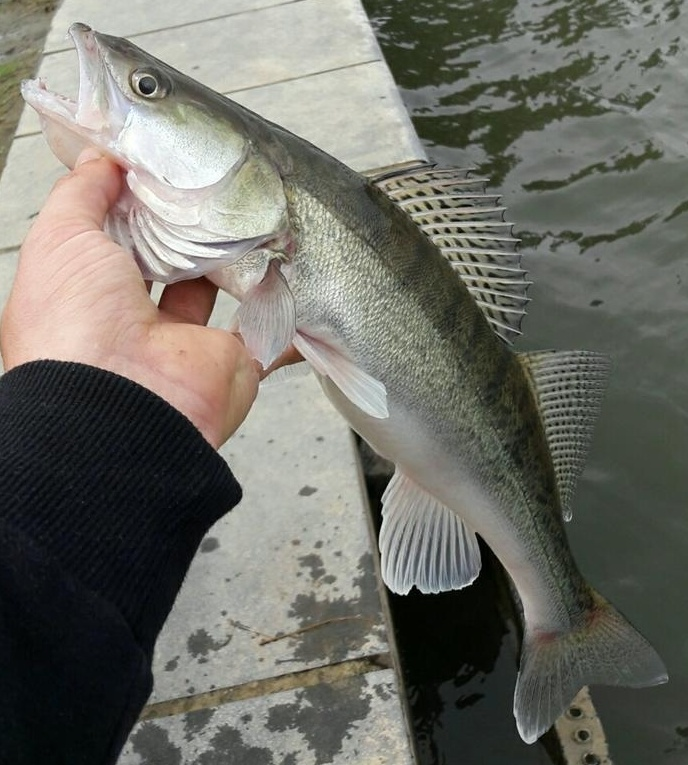Sander lucioperca: (20, 20, 668, 745)
